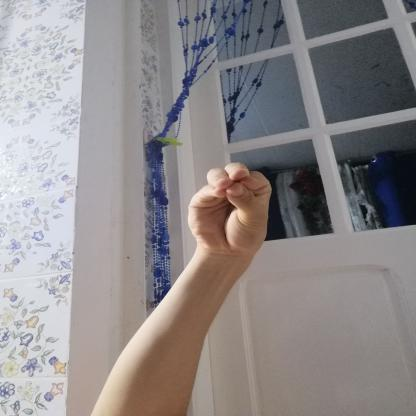HA: (164, 154, 295, 270)
